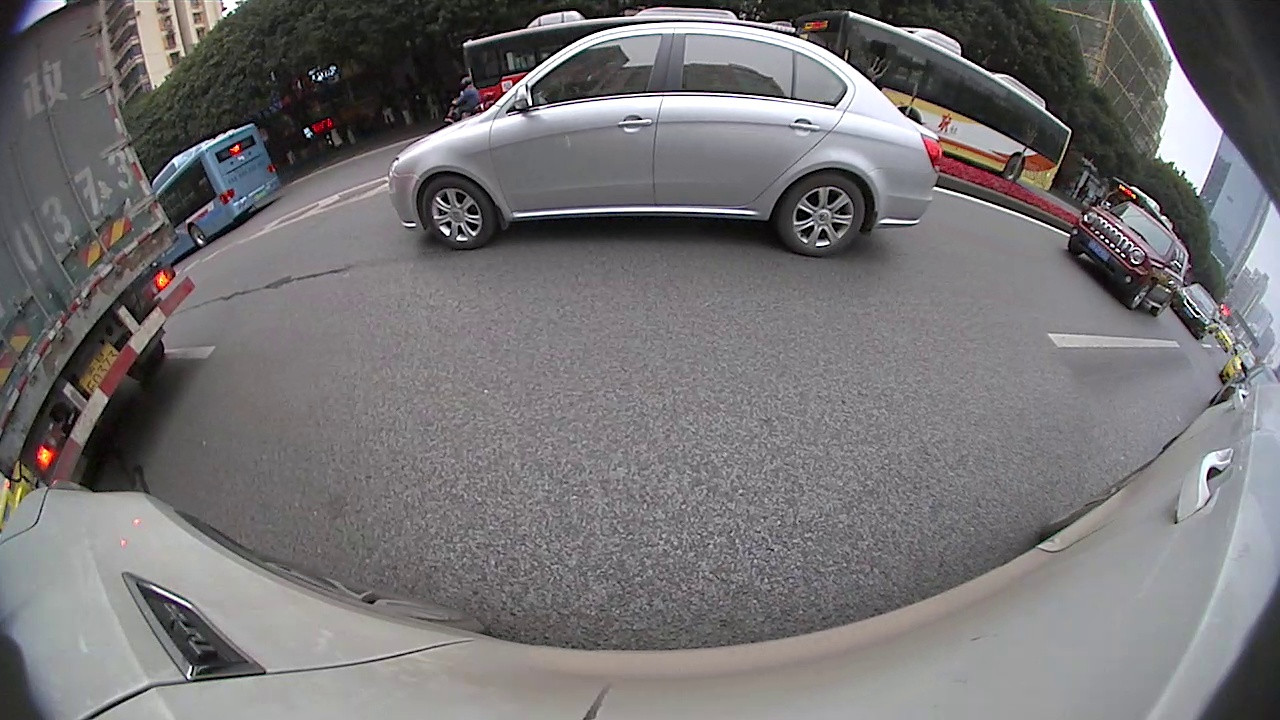bus: (791, 8, 1072, 196), (463, 7, 741, 109), (149, 120, 284, 262), (1099, 179, 1180, 233)
car: (387, 18, 946, 262), (1069, 203, 1188, 317), (1169, 286, 1221, 342)
front: (420, 173, 499, 252), (1122, 278, 1154, 311)
rear: (773, 169, 866, 259), (1000, 154, 1025, 182), (189, 225, 208, 249)
rider: (444, 79, 499, 126)
truck: (0, 2, 194, 498)
